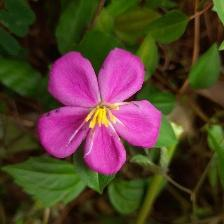malabar melastome: (38, 47, 165, 177)
